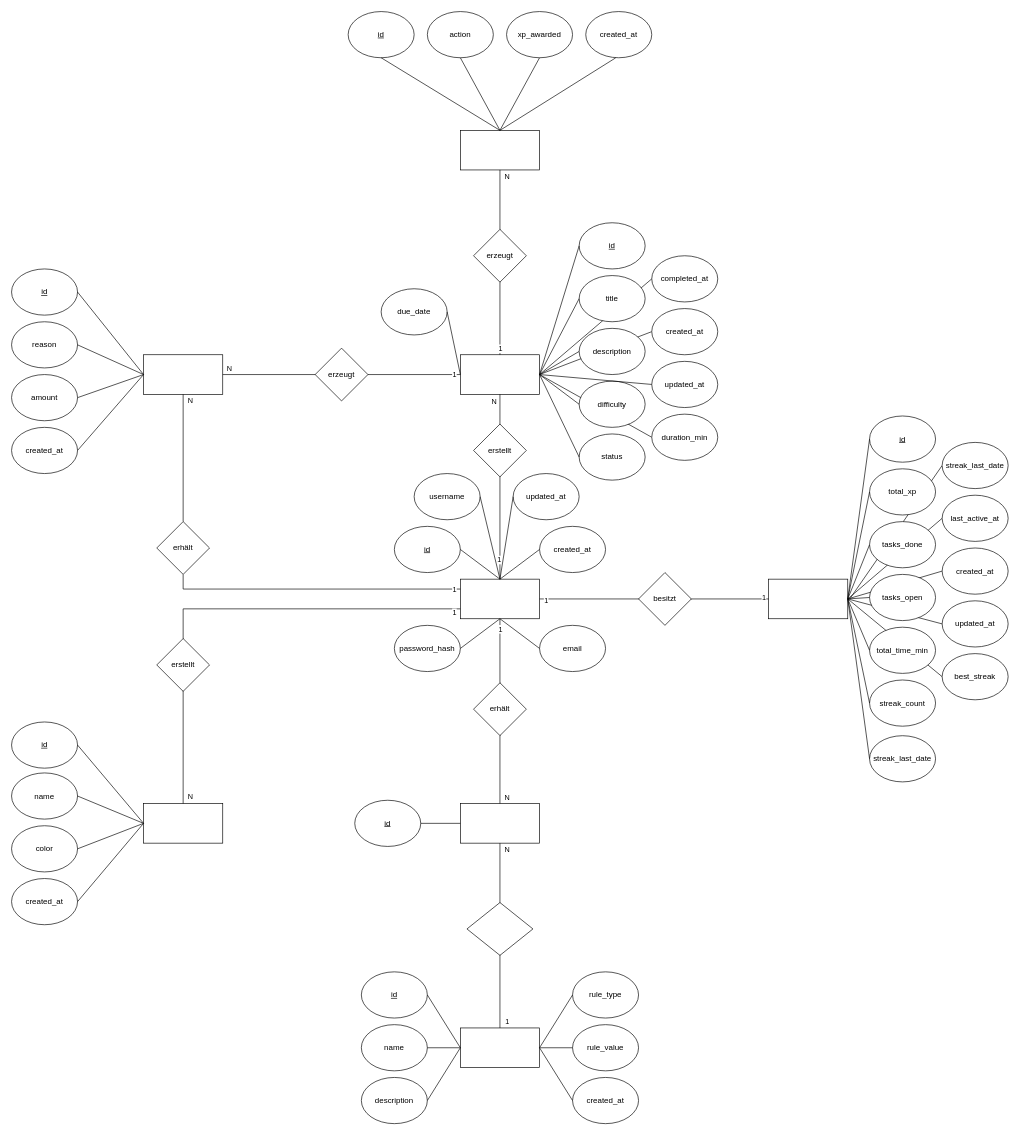
Some shapes in this 1020 by 1135 pixel diagram are drawn without their labels. The shapes that lost their labels are listed below. From the top down, each one's box as (x1, y1, x2, y2) in pixels, then its label:
(460, 130, 540, 170): TaskLog
(143, 354, 223, 394): XPEvent
(460, 354, 540, 394): Task
(460, 578, 540, 619): User
(768, 578, 848, 619): UserStats
(143, 803, 223, 843): Category
(460, 803, 540, 843): UserBadge
(466, 902, 533, 955): wird vergeben
(460, 1027, 540, 1068): Badge
